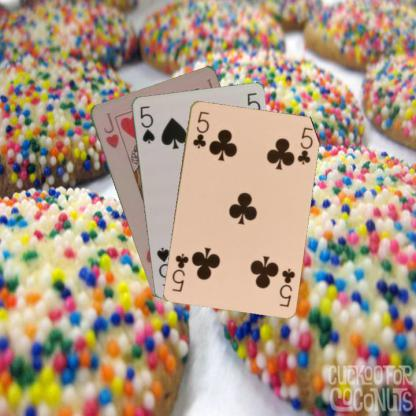5c: (190, 108, 210, 150), (276, 266, 296, 308)
5s: (137, 103, 156, 145)
Jh: (100, 110, 120, 150)
